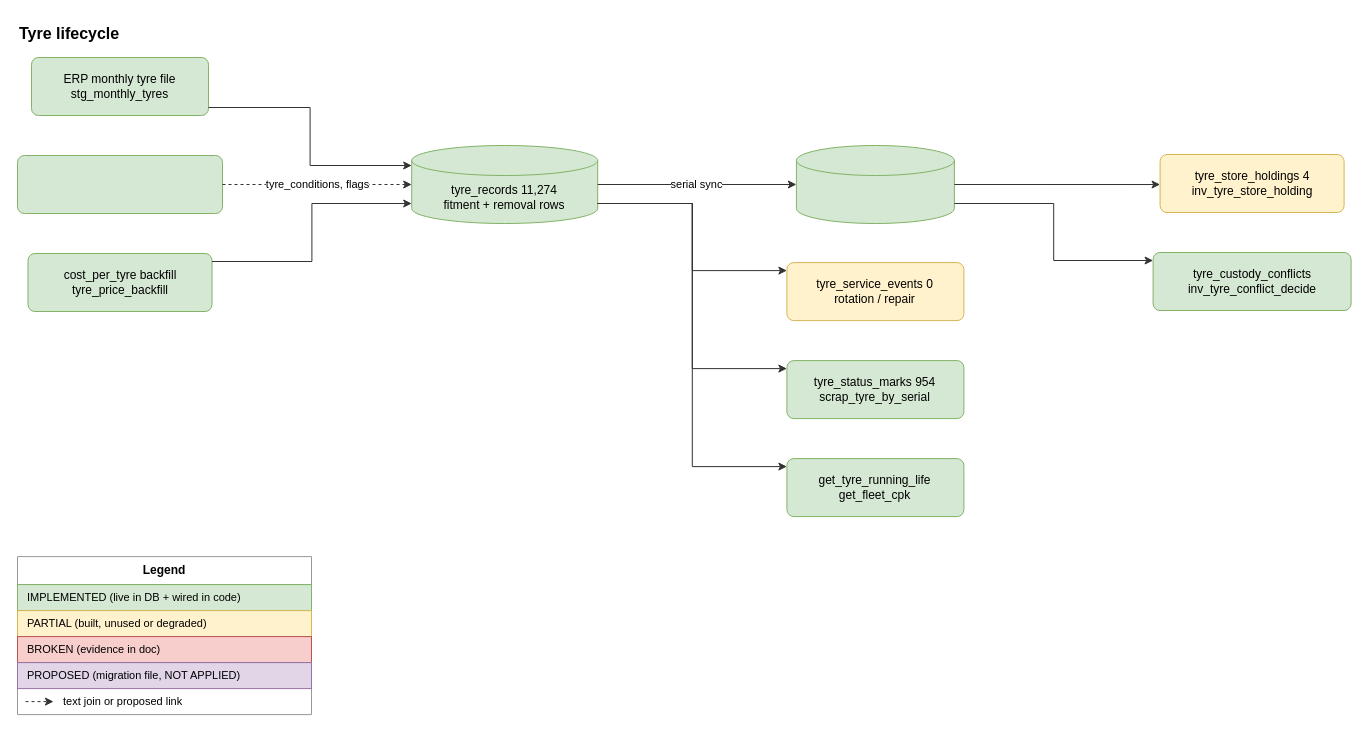
Some shapes in this 1369 by 732 pixel diagram are drawn without their labels. Here are the shapes that lost their labels. From the top down, the centre of each, then its label:
the point at 119,184: inspections 2,870 Flutter inspection wizard
the point at 874,184: tyre_items 8,641 inv_tyre_item_sync
